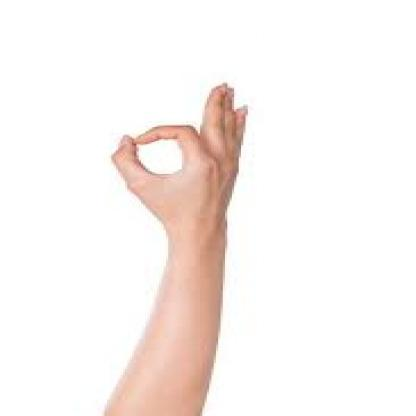ok: (106, 78, 255, 237)
